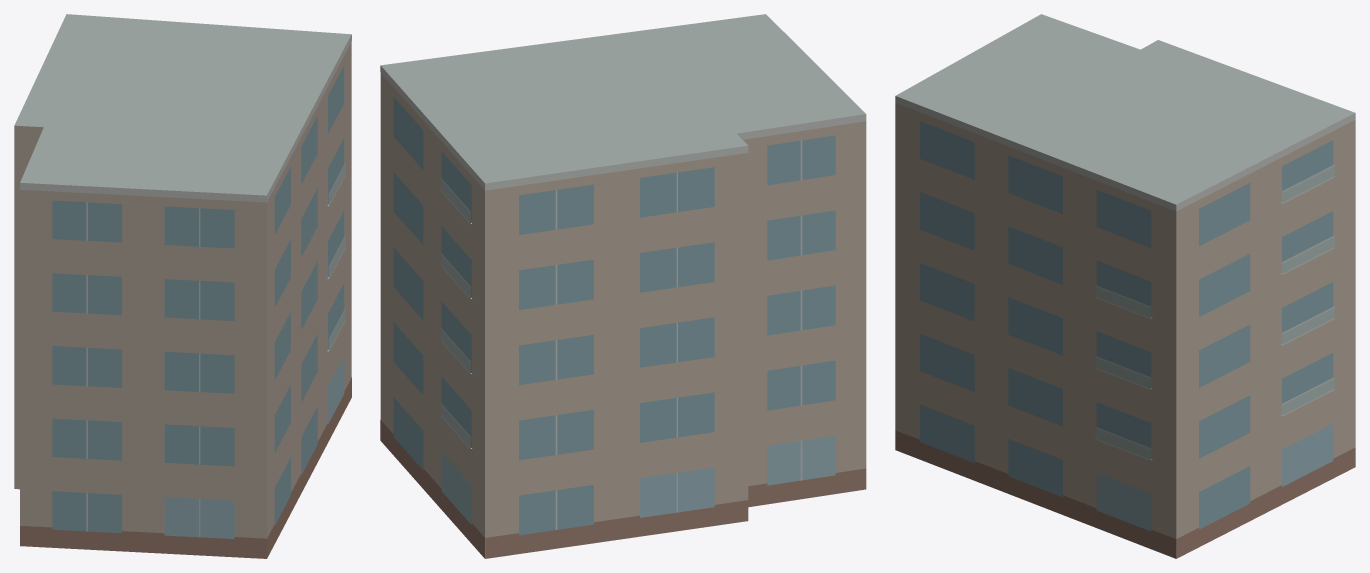
File: survey-upis-32960887.glb
3 views of the same model, side by side, from view 1: azimuth 30°, elevation 25°; view 2: azimuth 150°, elevation 25°; view 3: azimuth 270°, elevation 25° (orthographic). The views are drawn at different scales.
Visible parts, largest first — view 1: survey-upis-32960887.tmp; view 2: survey-upis-32960887.tmp; view 3: survey-upis-32960887.tmp.
Boxes of the visible parts, x1,y1,x2,y2 form: survey-upis-32960887.tmp: [14, 14, 351, 558]; survey-upis-32960887.tmp: [380, 14, 866, 558]; survey-upis-32960887.tmp: [895, 14, 1355, 558].
Size of the model in its own units: 14.77 by 12.78 by 15.06.
